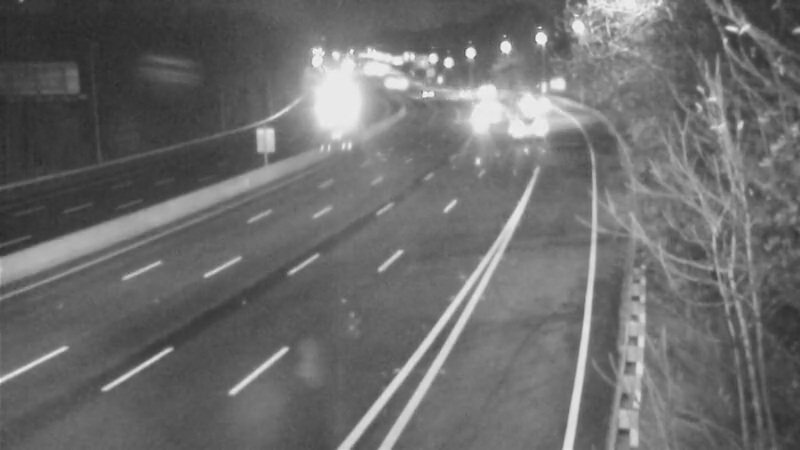vehicle: (471, 63, 521, 113), (403, 67, 453, 117), (505, 79, 555, 129), (459, 83, 509, 133), (459, 93, 509, 143), (497, 101, 547, 151)
